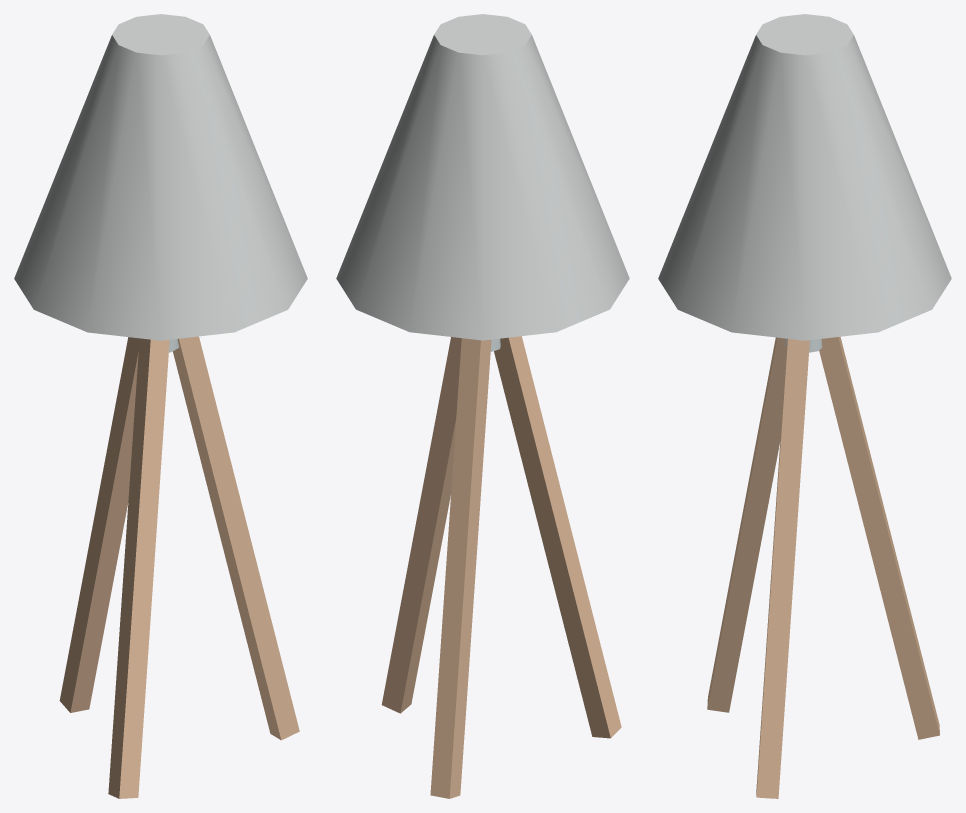
The model's file is floorLampMidCentury.glb.
The picture shows the model from 3 angles, left to right: view 1: azimuth 30°, elevation 25°; view 2: azimuth 150°, elevation 25°; view 3: azimuth 270°, elevation 25°; orthographic projection.
Parts seen in each view (by area): view 1: floorLampMidCentury; view 2: floorLampMidCentury; view 3: floorLampMidCentury.
Boxes of the visible parts, bbox=[...] form: floorLampMidCentury: bbox=[14, 14, 307, 798]; floorLampMidCentury: bbox=[336, 14, 629, 798]; floorLampMidCentury: bbox=[658, 14, 951, 798].
Size of the model in its own units: 0.3 by 0.8036 by 0.3.
